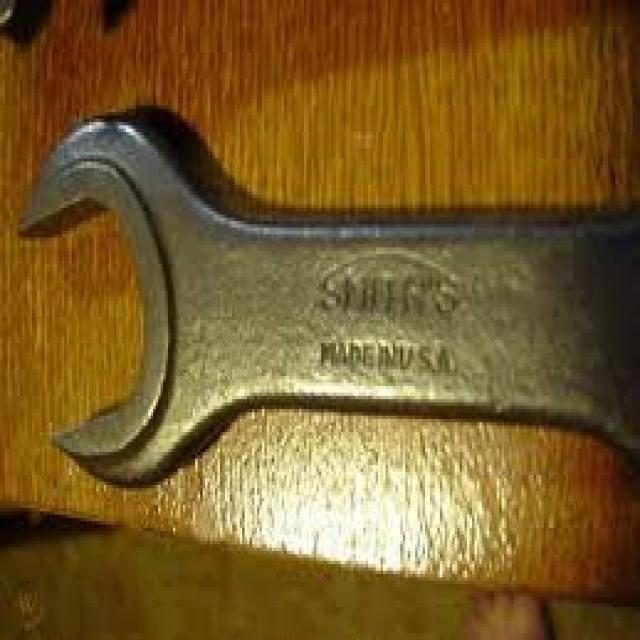wrench: (12, 109, 640, 502)
